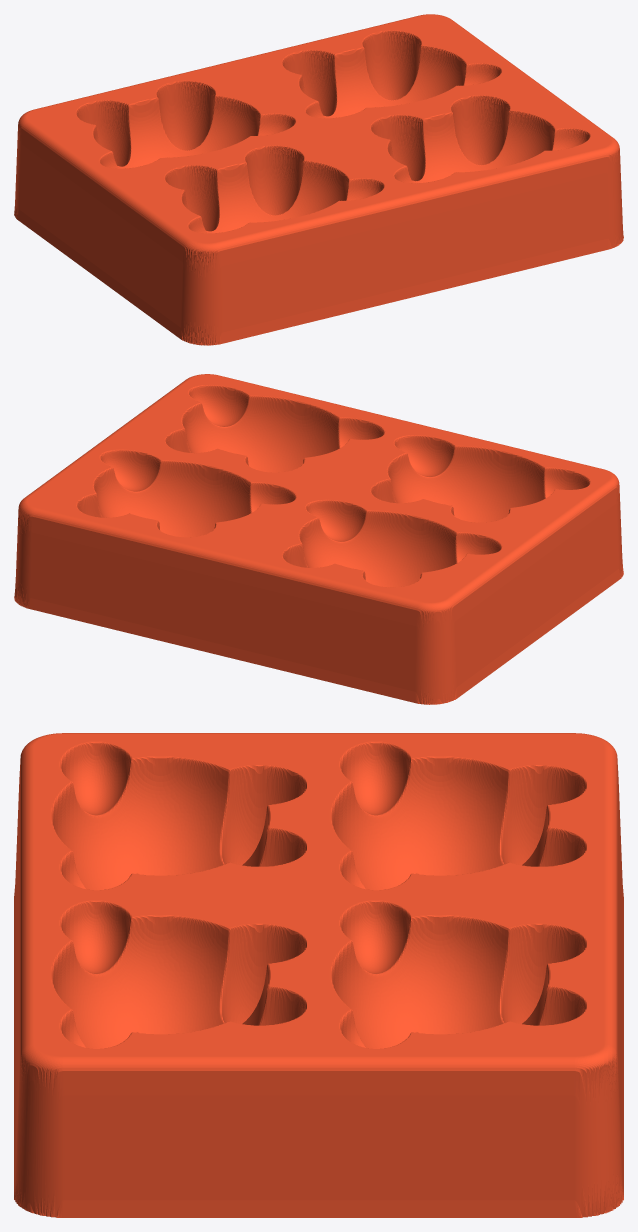
Rendered from mold.glb.
3 views of the same model, one above another, from view 1: azimuth 30°, elevation 25°; view 2: azimuth 150°, elevation 25°; view 3: azimuth 270°, elevation 25° (orthographic). The views are drawn at different scales.
Parts seen in each view (by area): view 1: geometry_0; view 2: geometry_0; view 3: geometry_0.
Boxes of the visible parts, x1,y1,x2,y2 form: geometry_0: (14,14,623,345); geometry_0: (14,374,623,704); geometry_0: (14,733,623,1217).
Size of the model in its own units: 0.1466 by 0.0309 by 0.1115.
